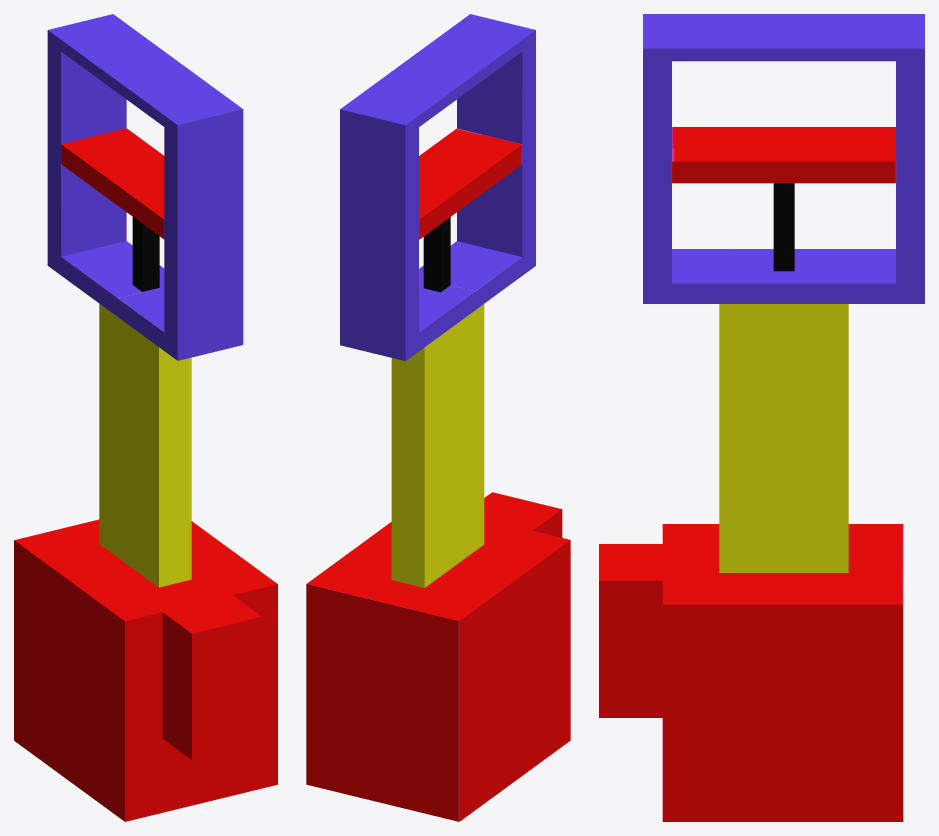
File: playerArm.obj
The picture shows the model from 3 angles, left to right: view 1: azimuth 30°, elevation 25°; view 2: azimuth 150°, elevation 25°; view 3: azimuth 270°, elevation 25°; orthographic projection. The views are drawn at different scales.
Parts seen in each view (by area): view 1: 立方体.002, 立方体.003, 立方体.001, 立方体.006; view 2: 立方体.003, 立方体.002, 立方体.001, 立方体.006; view 3: 立方体.003, 立方体.002, 立方体.001, 立方体.006.
Boxes of the visible parts, bbox=[...] form: 立方体.002: bbox=[47, 14, 243, 360]; 立方体.003: bbox=[14, 519, 277, 821]; 立方体.001: bbox=[99, 304, 191, 587]; 立方体.006: bbox=[162, 593, 261, 760]; 立方体.003: bbox=[306, 521, 570, 821]; 立方体.002: bbox=[340, 14, 535, 361]; 立方体.001: bbox=[391, 304, 484, 587]; 立方体.006: bbox=[484, 492, 562, 537]; 立方体.003: bbox=[662, 524, 903, 821]; 立方体.002: bbox=[643, 14, 924, 303]; 立方体.001: bbox=[719, 304, 848, 572]; 立方体.006: bbox=[599, 544, 667, 717].
Size of the model in its own units: 0.184 by 0.7969 by 0.3136.
Materials: 1 (1 with a texture image).
